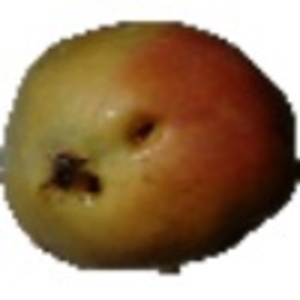mamão: (6, 14, 298, 276)
